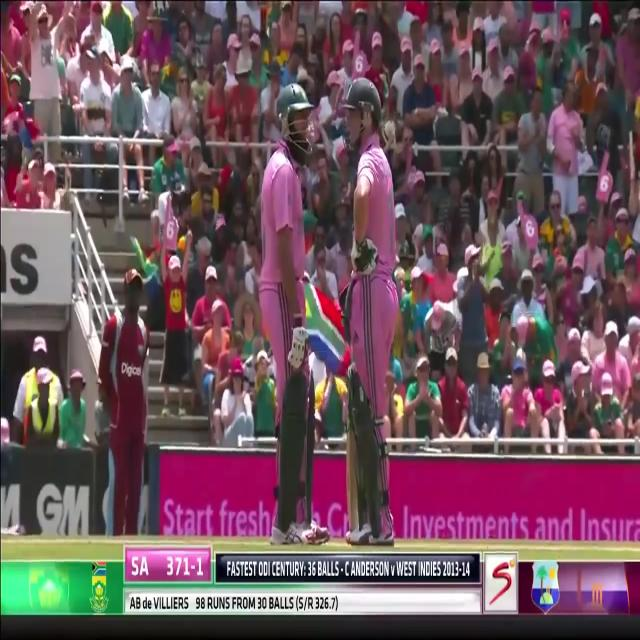Ball: (341, 73, 418, 547), (251, 81, 323, 548)
